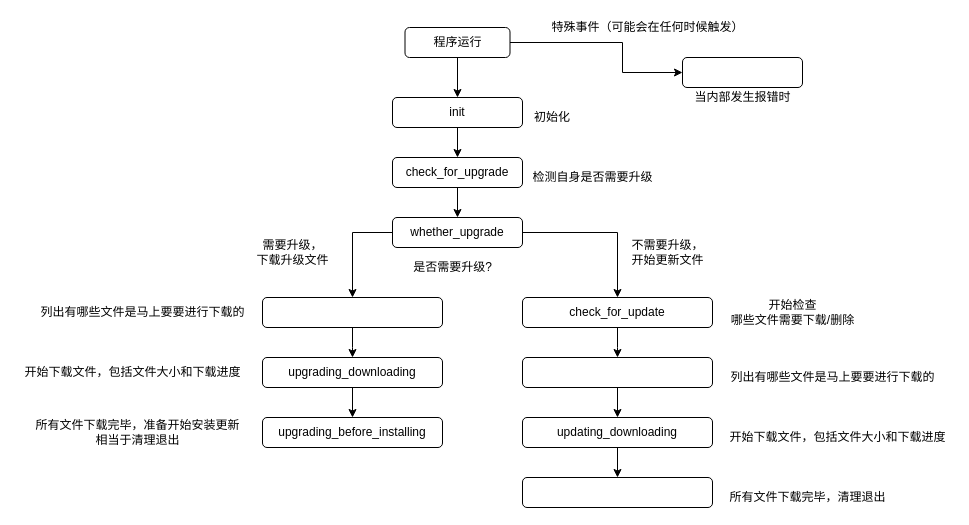
This 969x525 diagram has some shape labels left out. The shapes that lost their labels are listed below. From the top down, each one's centre as x and y in pixels, then its label:
At [742,72]: "on_error".
At [352,312]: "upgrading_new_files".
At [617,372]: "updating_new_files".
At [617,492]: "cleanup".
